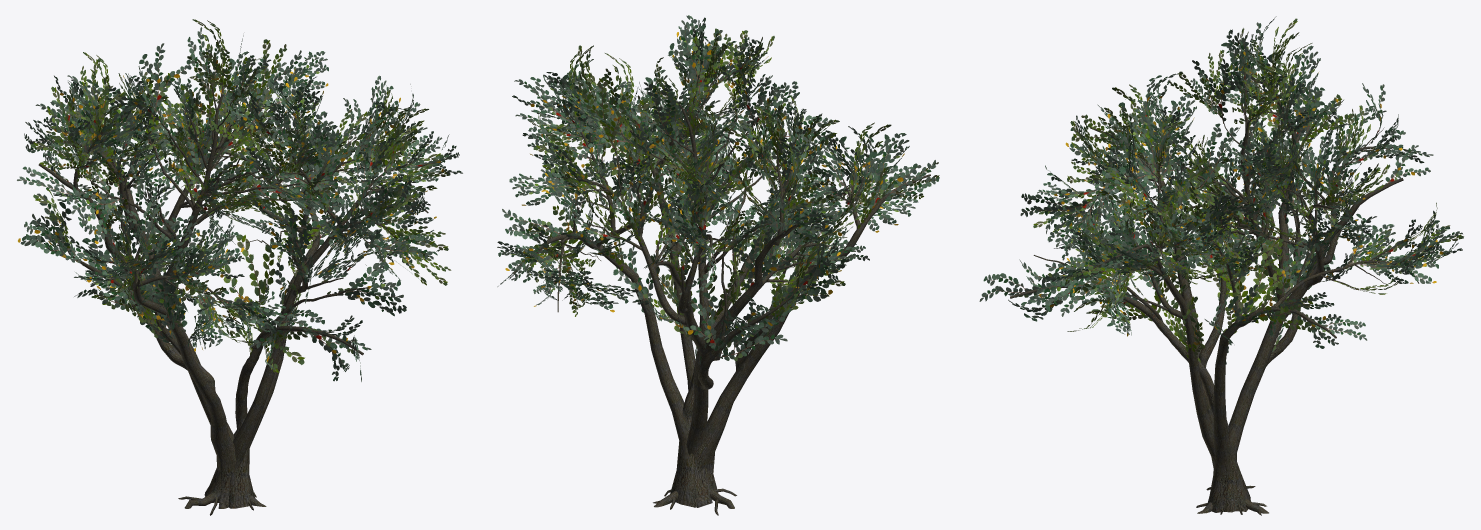
The model's file is Elm.fbx.
3 views of the same model, side by side, from view 1: azimuth 30°, elevation 25°; view 2: azimuth 150°, elevation 25°; view 3: azimuth 270°, elevation 25° (orthographic). The views are drawn at different scales.
Visible parts, largest first — view 1: Elm_LOD0; view 2: Elm_LOD0; view 3: Elm_LOD0.
Part boxes in pixels (bbox=[...]): Elm_LOD0: bbox=[17, 19, 462, 515]; Elm_LOD0: bbox=[497, 15, 939, 515]; Elm_LOD0: bbox=[979, 16, 1463, 515].
Size of what is drawn, in the model's own units: 8.69 by 10.22 by 10.07.
2 materials, 2 textured.
